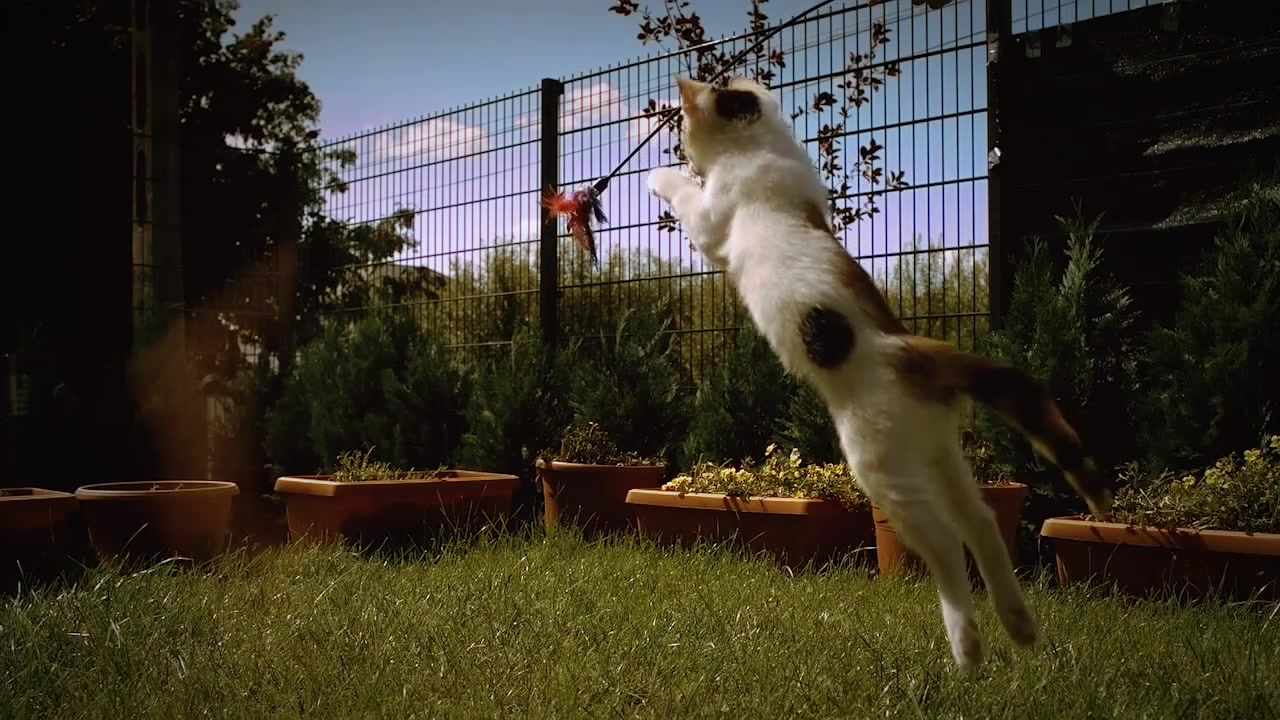cat: (650, 77, 1117, 677)
